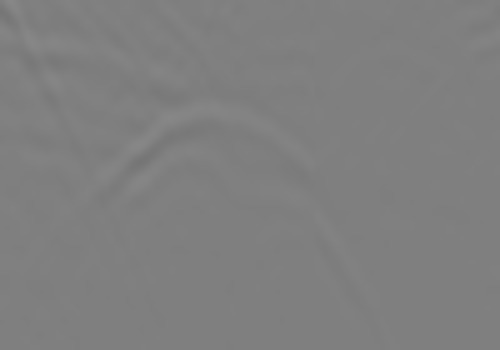hyperbola: (50, 100, 382, 314)
